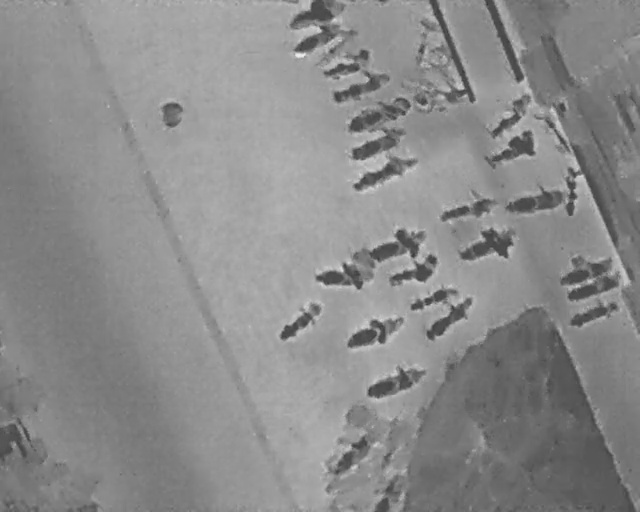Bicycle: (345, 146, 422, 199), (451, 220, 524, 275), (364, 219, 433, 273), (338, 306, 411, 357), (359, 356, 432, 407), (420, 289, 480, 347), (341, 92, 414, 139), (269, 294, 330, 350), (551, 249, 623, 294), (406, 70, 470, 120), (382, 248, 446, 296), (327, 65, 394, 110), (346, 120, 413, 165), (485, 89, 538, 145), (284, 18, 347, 65), (479, 127, 540, 175), (560, 266, 626, 308), (306, 25, 360, 75), (317, 42, 376, 85), (564, 294, 625, 335), (434, 191, 501, 227), (503, 181, 569, 217), (405, 279, 462, 319), (314, 257, 375, 294), (288, 0, 336, 32), (561, 166, 580, 218)
